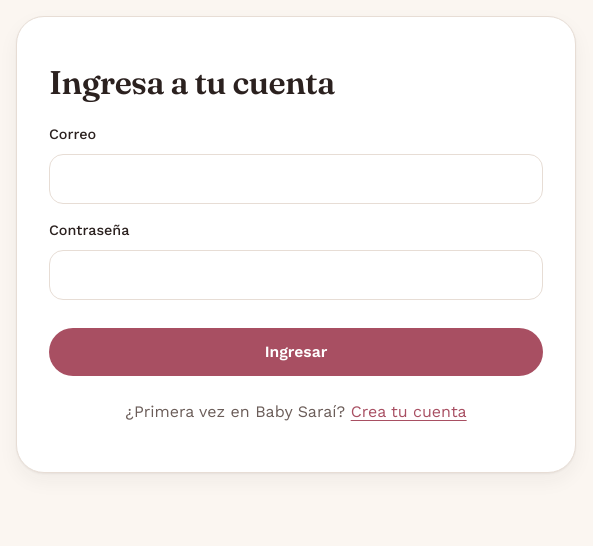
Test: Ingresar + AuthProvider › valida antes de llamar a la API
Click the button "Ingresar".
click(296, 352)  # box [49, 328, 543, 376]
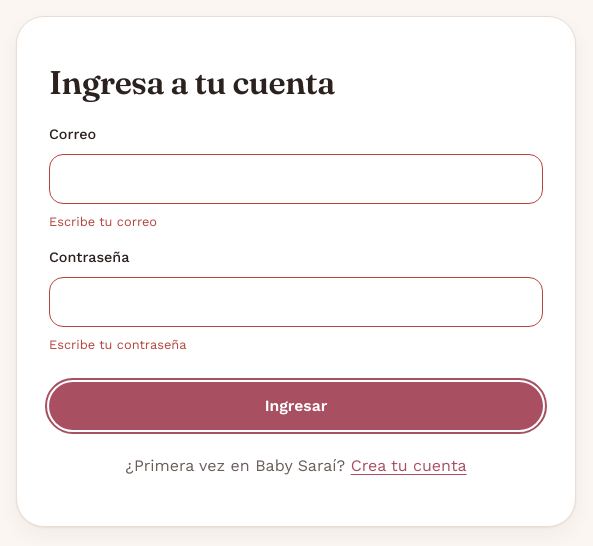
Check: the text "Escribe tu correo" is shown, box [49, 214, 157, 229]
